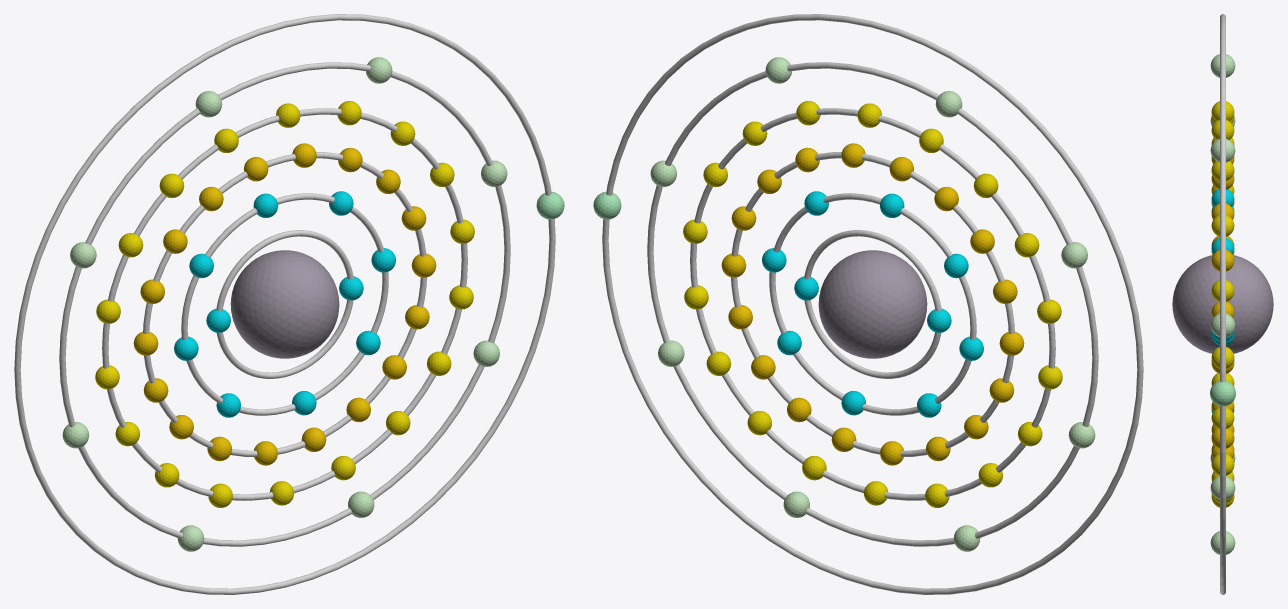
3 views of the same model, side by side, from view 1: azimuth 30°, elevation 25°; view 2: azimuth 150°, elevation 25°; view 3: azimuth 270°, elevation 25° (orthographic). The views are drawn at different scales.
Parts seen in each view (by area): view 1: world; view 2: world; view 3: world.
Boxes of the visible parts, bbox=[...] form: world: bbox=[14, 14, 564, 594]; world: bbox=[593, 14, 1143, 594]; world: bbox=[1172, 14, 1273, 594].
Bounding box in the file's own units: 2.56 × 2.53 × 0.44.
